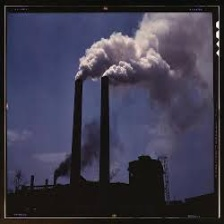smoke: (79, 11, 196, 90)
